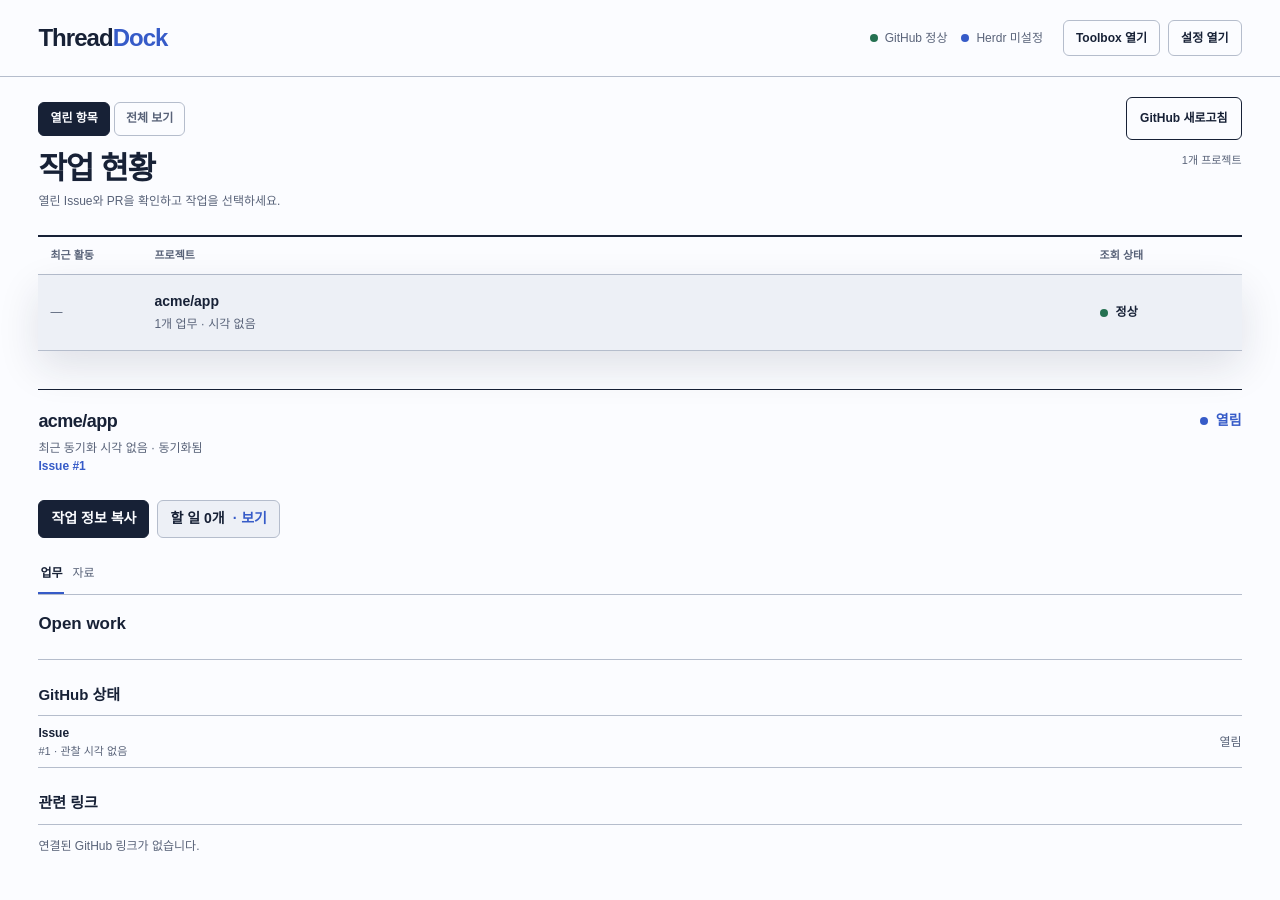
Test: work history scope › keeps the committed global cache and draft input when a Drawer save fails
The image size is (1280, 900).
Click the button "Toolbox 열기" at (1112, 38), box [1063,20,1160,56]
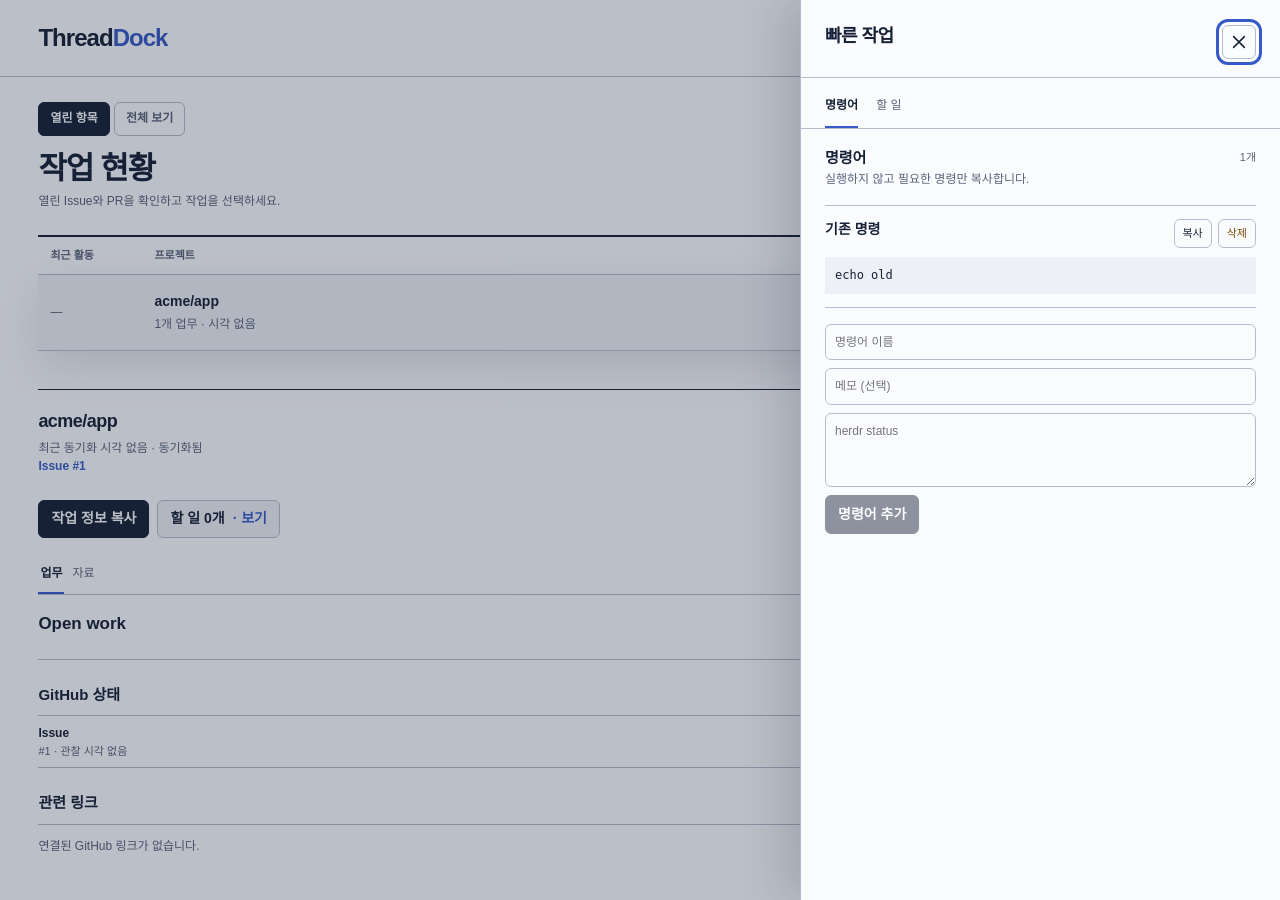
Type "보존할 초안" into the field labelled "명령어 이름" at (1040, 342), box [825,324,1256,360]
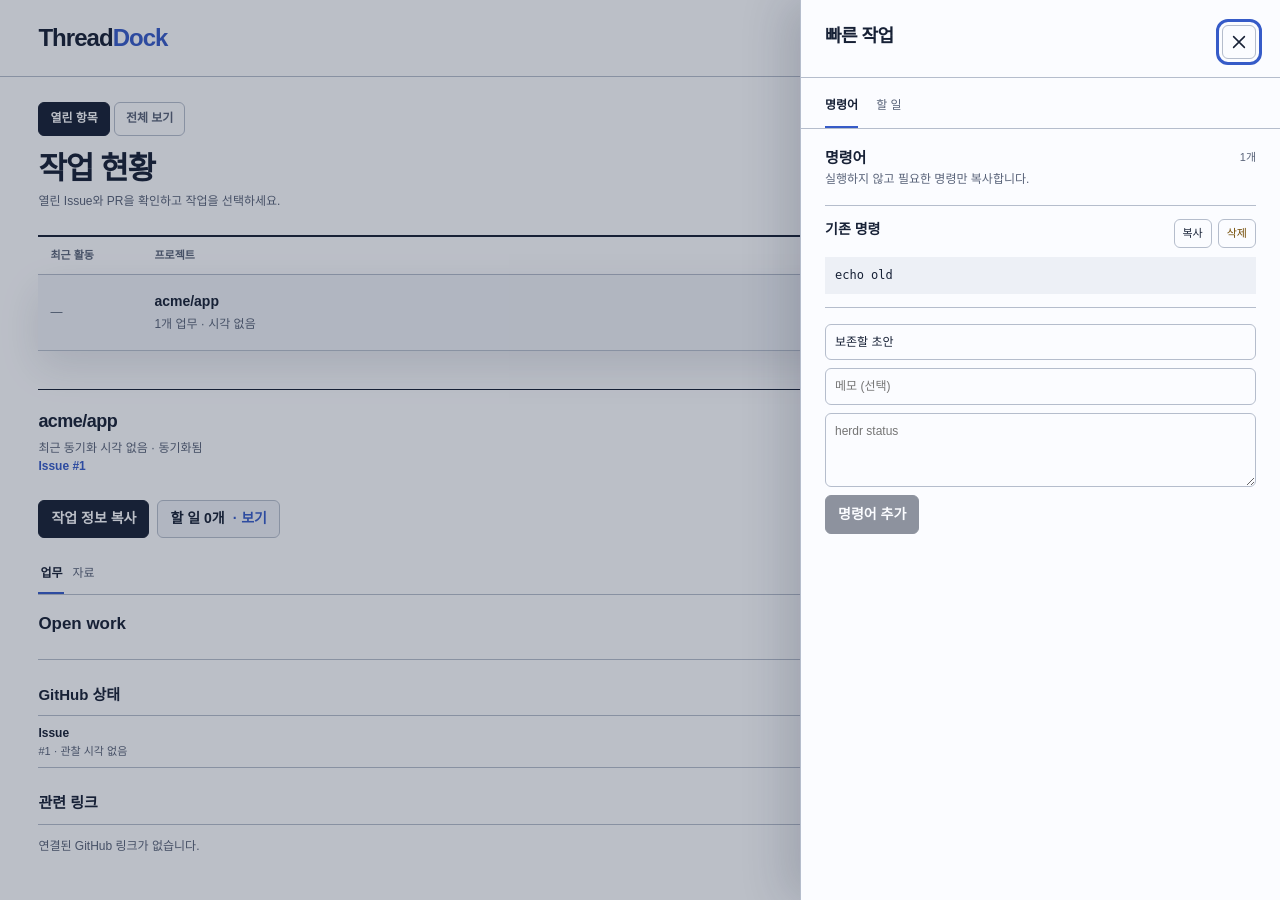
Type "echo new" into the text box named "명령어 내용" at (1040, 450), box [825,413,1256,487]
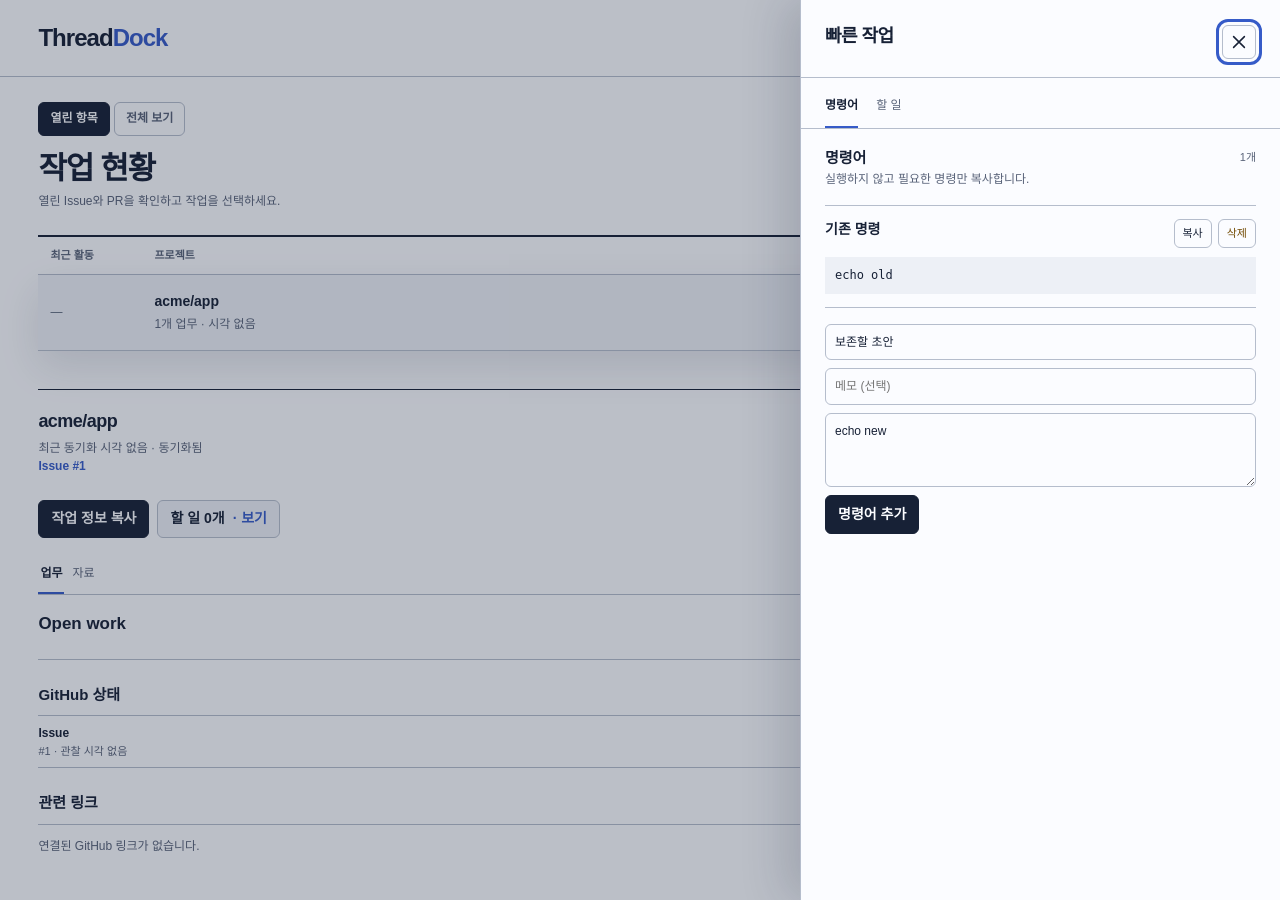
Click the button "명령어 추가" at (872, 514), box [825,494,919,534]
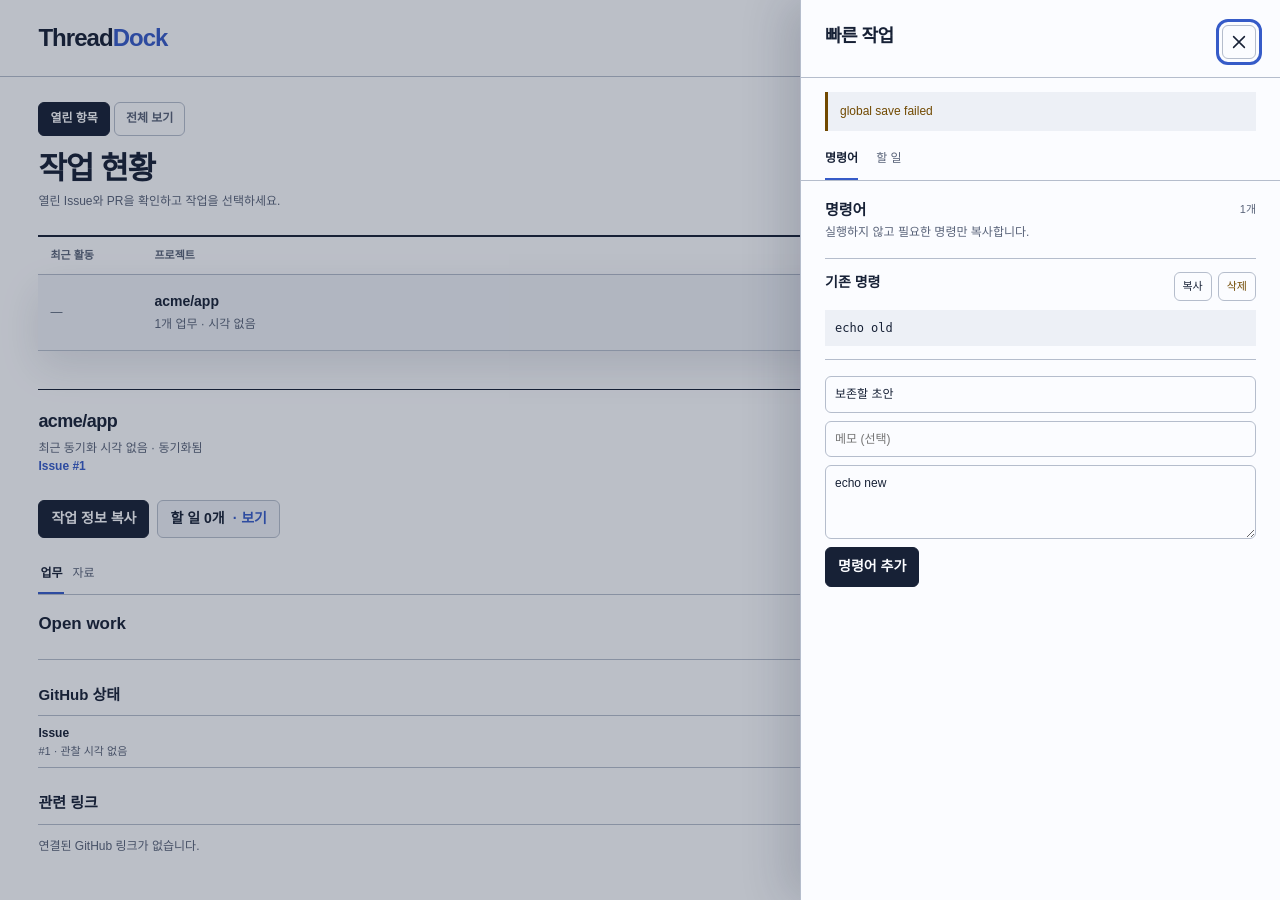
expect the text "echo old" is shown: met, box [835,321,893,335]
expect the message reads "global save failed": met, box [840,104,933,118]
